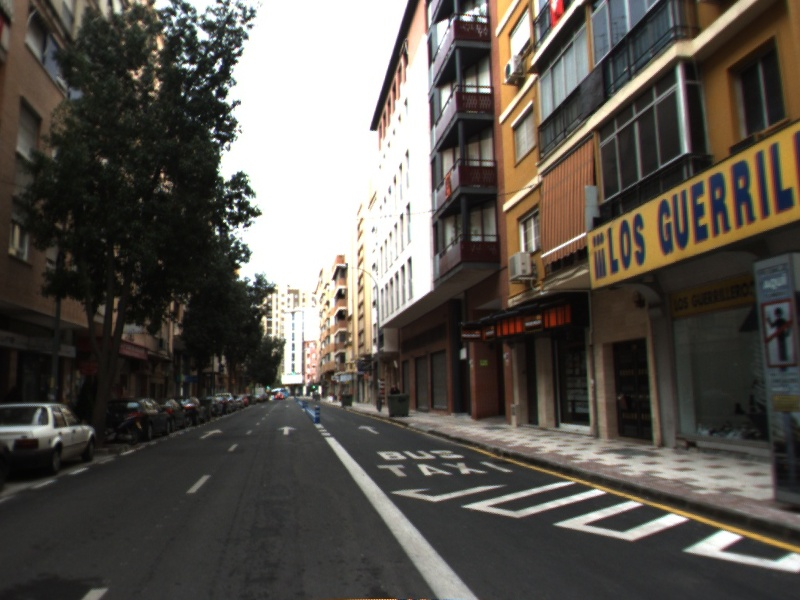STRAIGHT: (198, 427, 225, 440), (356, 423, 382, 436), (275, 424, 299, 437)
